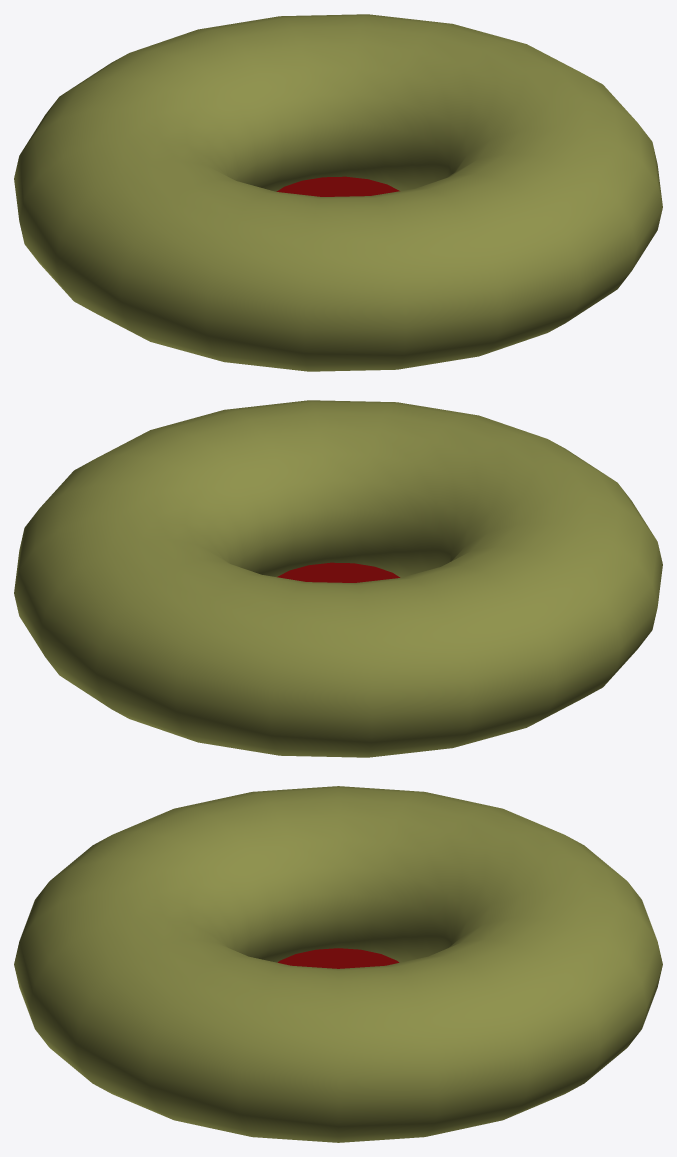
Rendered from TutorialStageAround.fbx.
3 views of the same model, one above another, from view 1: azimuth 30°, elevation 25°; view 2: azimuth 150°, elevation 25°; view 3: azimuth 270°, elevation 25° (orthographic).
Parts seen in each view (by area): view 1: pTorus1, pCylinder1; view 2: pTorus1, pCylinder1; view 3: pTorus1, pCylinder1.
Boxes of the visible parts, left/top/right/bottom form: pTorus1: left=14, top=14, right=662, bottom=371; pCylinder1: left=276, top=176, right=399, bottom=196; pTorus1: left=14, top=400, right=662, bottom=757; pCylinder1: left=277, top=562, right=400, bottom=582; pTorus1: left=14, top=786, right=662, bottom=1142; pCylinder1: left=277, top=948, right=399, bottom=968.
Bounding box in the file's own units: 591 × 161 × 591.
